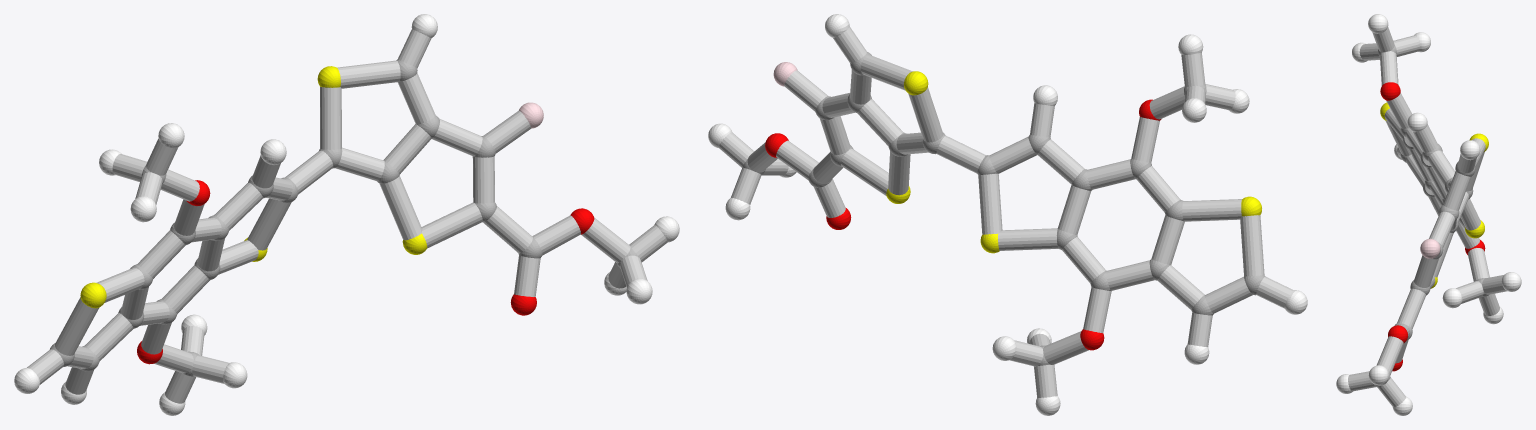
Rendered from Dimethoxy_Benzodithiophene_Phi_15_Theta_310_Methylcarbonyl_3_Fluoro_Thienothiophene.glb.
The picture shows the model from 3 angles, left to right: view 1: azimuth 30°, elevation 25°; view 2: azimuth 150°, elevation 25°; view 3: azimuth 270°, elevation 25°; orthographic projection. The views are drawn at different scales.
Visible parts, largest first — view 1: grp15205, grp8689, grp1, grp7241, grp13395; view 2: grp15205, grp8689, grp1, grp7241, grp13395; view 3: grp15205, grp8689, grp1, grp13395, grp7241, grp14843.
Part boxes in pixels (x1=…): grp15205: x1=27, y1=29, x2=667, y2=403; grp8689: x1=14, y1=14, x2=679, y2=415; grp1: x1=50, y1=59, x2=638, y2=376; grp7241: x1=80, y1=66, x2=427, y2=308; grp13395: x1=137, y1=180, x2=594, y2=364; grp15205: x1=718, y1=26, x2=1292, y2=397; grp8689: x1=708, y1=14, x2=1307, y2=415; grp1: x1=742, y1=52, x2=1265, y2=365; grp7241: x1=886, y1=71, x2=1261, y2=253; grp13395: x1=765, y1=99, x2=1161, y2=350; grp15205: x1=1348, y1=27, x2=1507, y2=407; grp8689: x1=1336, y1=14, x2=1521, y2=415; grp1: x1=1374, y1=45, x2=1489, y2=387; grp13395: x1=1380, y1=82, x2=1485, y2=371; grp7241: x1=1380, y1=102, x2=1488, y2=288; grp14843: x1=1420, y1=238, x2=1440, y2=258.
Bounding box in the file's own units: 17.02 × 9.16 × 5.5.
